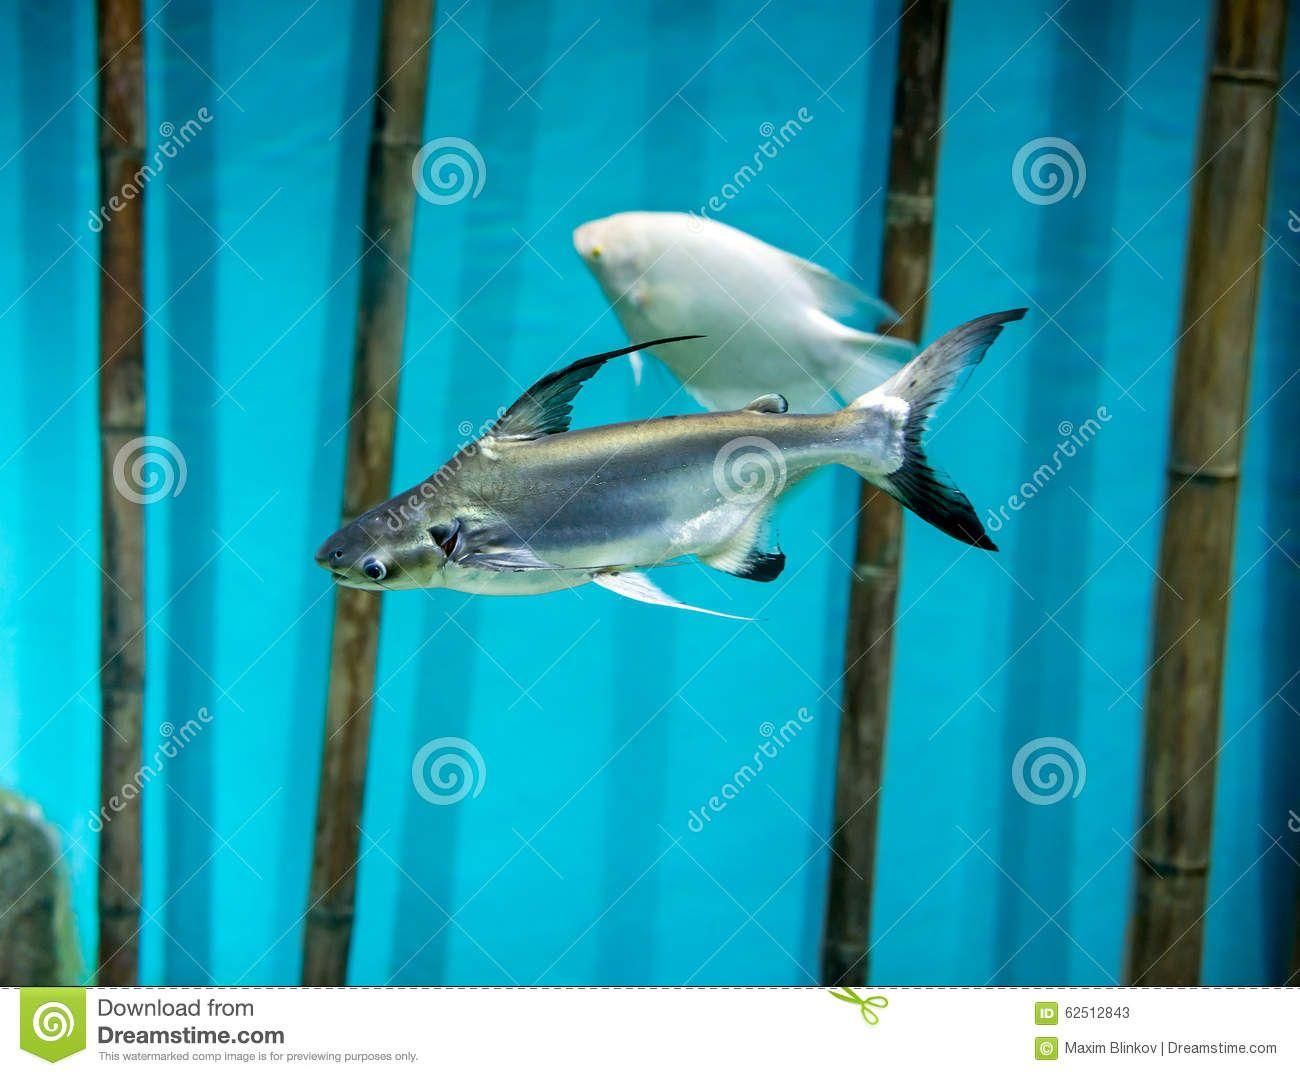Pangasius: (311, 305, 1035, 627)
